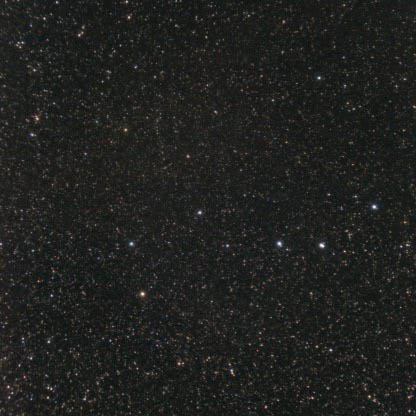Ursa Major: (116, 226, 138, 256), (125, 281, 150, 305), (361, 194, 387, 216), (190, 202, 212, 224), (311, 234, 333, 256), (269, 232, 290, 254), (216, 237, 235, 257)
